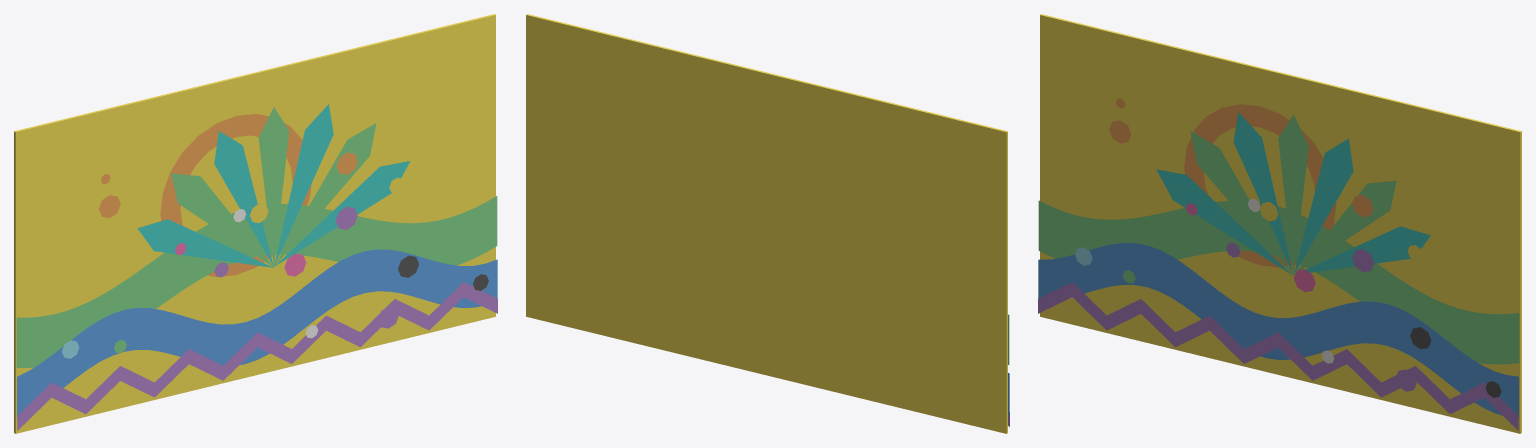
File: fv_mural_a.glb
The picture shows the model from 3 angles, left to right: view 1: azimuth 30°, elevation 25°; view 2: azimuth 150°, elevation 25°; view 3: azimuth 330°, elevation 25°; orthographic projection.
Parts seen in each view (by area): view 1: fv_mural_a; view 2: fv_mural_a; view 3: fv_mural_a.
Boxes of the visible parts, bbox=[...] form: fv_mural_a: bbox=[14, 14, 497, 433]; fv_mural_a: bbox=[526, 14, 1009, 433]; fv_mural_a: bbox=[1038, 14, 1521, 433].
Size of the model in its own units: 6 by 3.6 by 0.1992.
